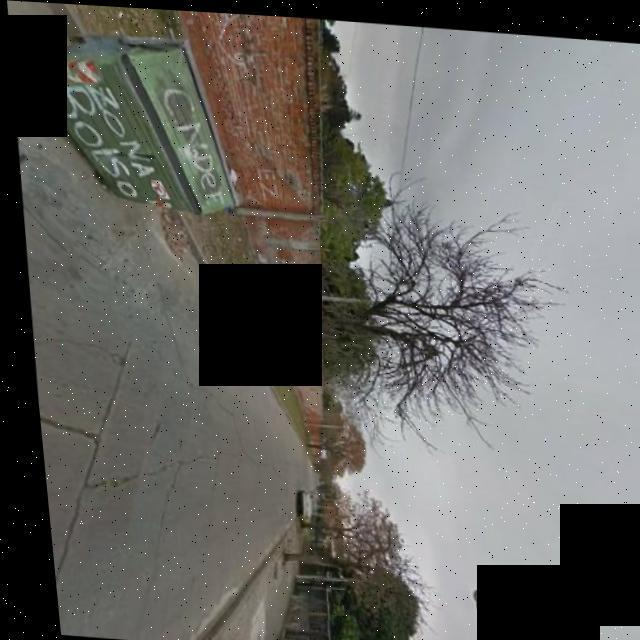bin: (3, 9, 245, 237)
